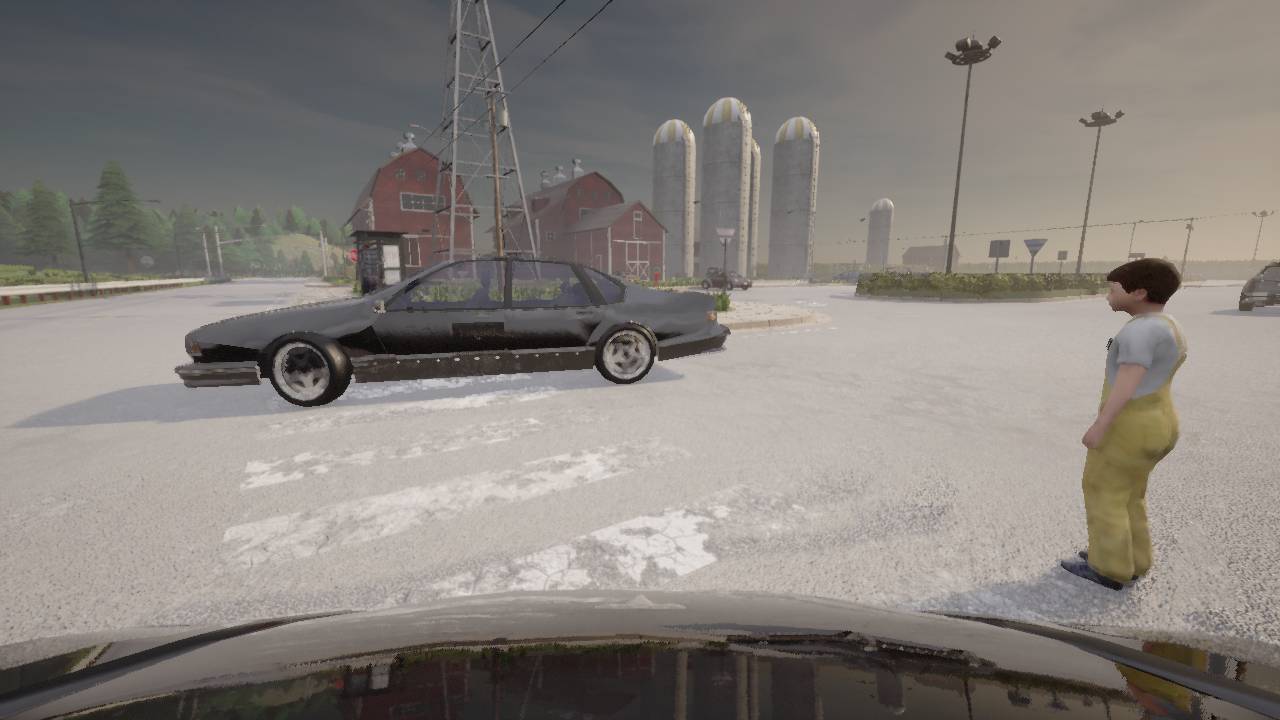cyclist: (0, 588, 1279, 719), (173, 255, 729, 407), (1238, 260, 1279, 311), (701, 270, 751, 289), (833, 270, 865, 279), (613, 270, 637, 280), (877, 267, 914, 273), (706, 267, 723, 277)
pedestrian: (1060, 258, 1188, 589), (355, 239, 383, 294), (652, 262, 659, 287)
